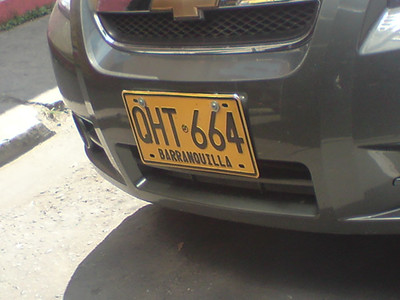placa_carro: (110, 83, 282, 182)
